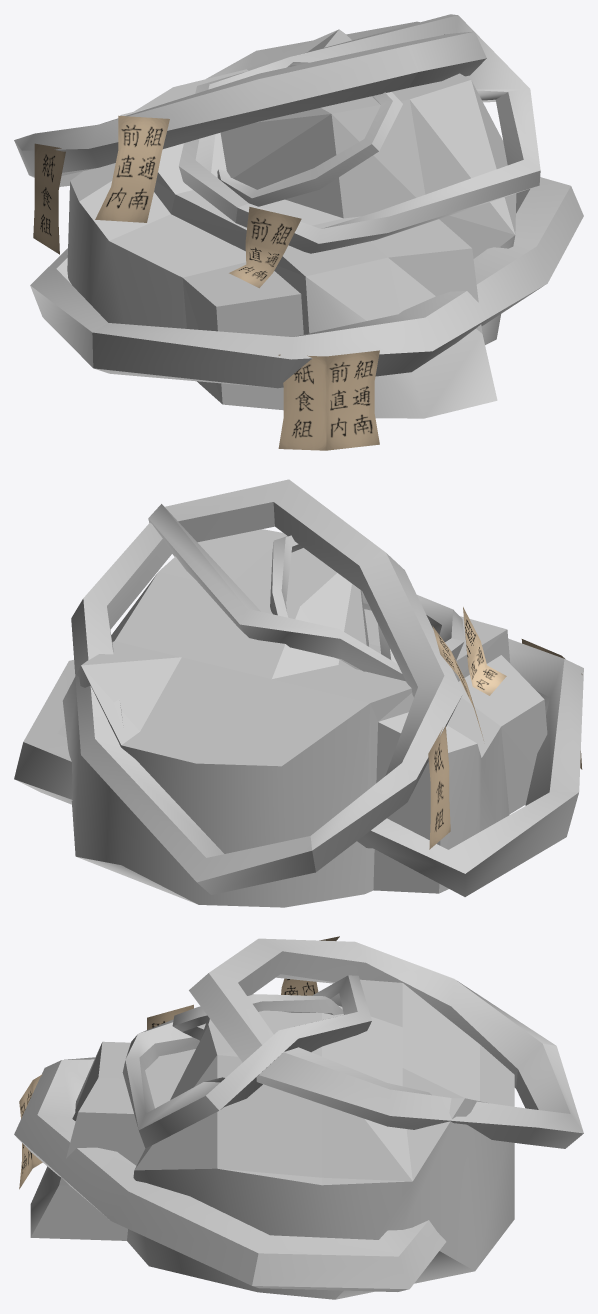
File: Map_temple.FBX
3 renders of one model, top to bottom at view 1: azimuth 30°, elevation 25°; view 2: azimuth 150°, elevation 25°; view 3: azimuth 270°, elevation 25°, orthographic. The views are drawn at different scales.
Parts seen in each view (by area): view 1: Cylinder001; view 2: Cylinder001; view 3: Cylinder001.
Boxes of the visible parts, x1=… form: Cylinder001: x1=14, y1=14, x2=583, y2=450; Cylinder001: x1=14, y1=479, x2=583, y2=907; Cylinder001: x1=14, y1=936, x2=583, y2=1299.
Size of the model in its own units: 355 by 199 by 373.
